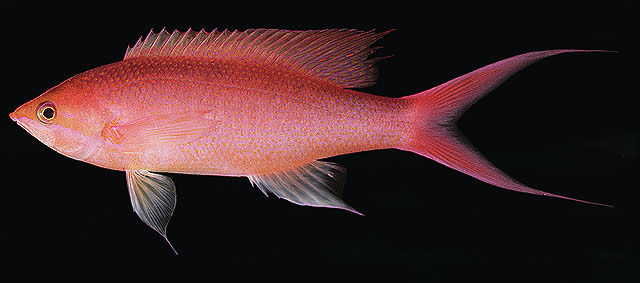fish: (9, 29, 612, 255)
